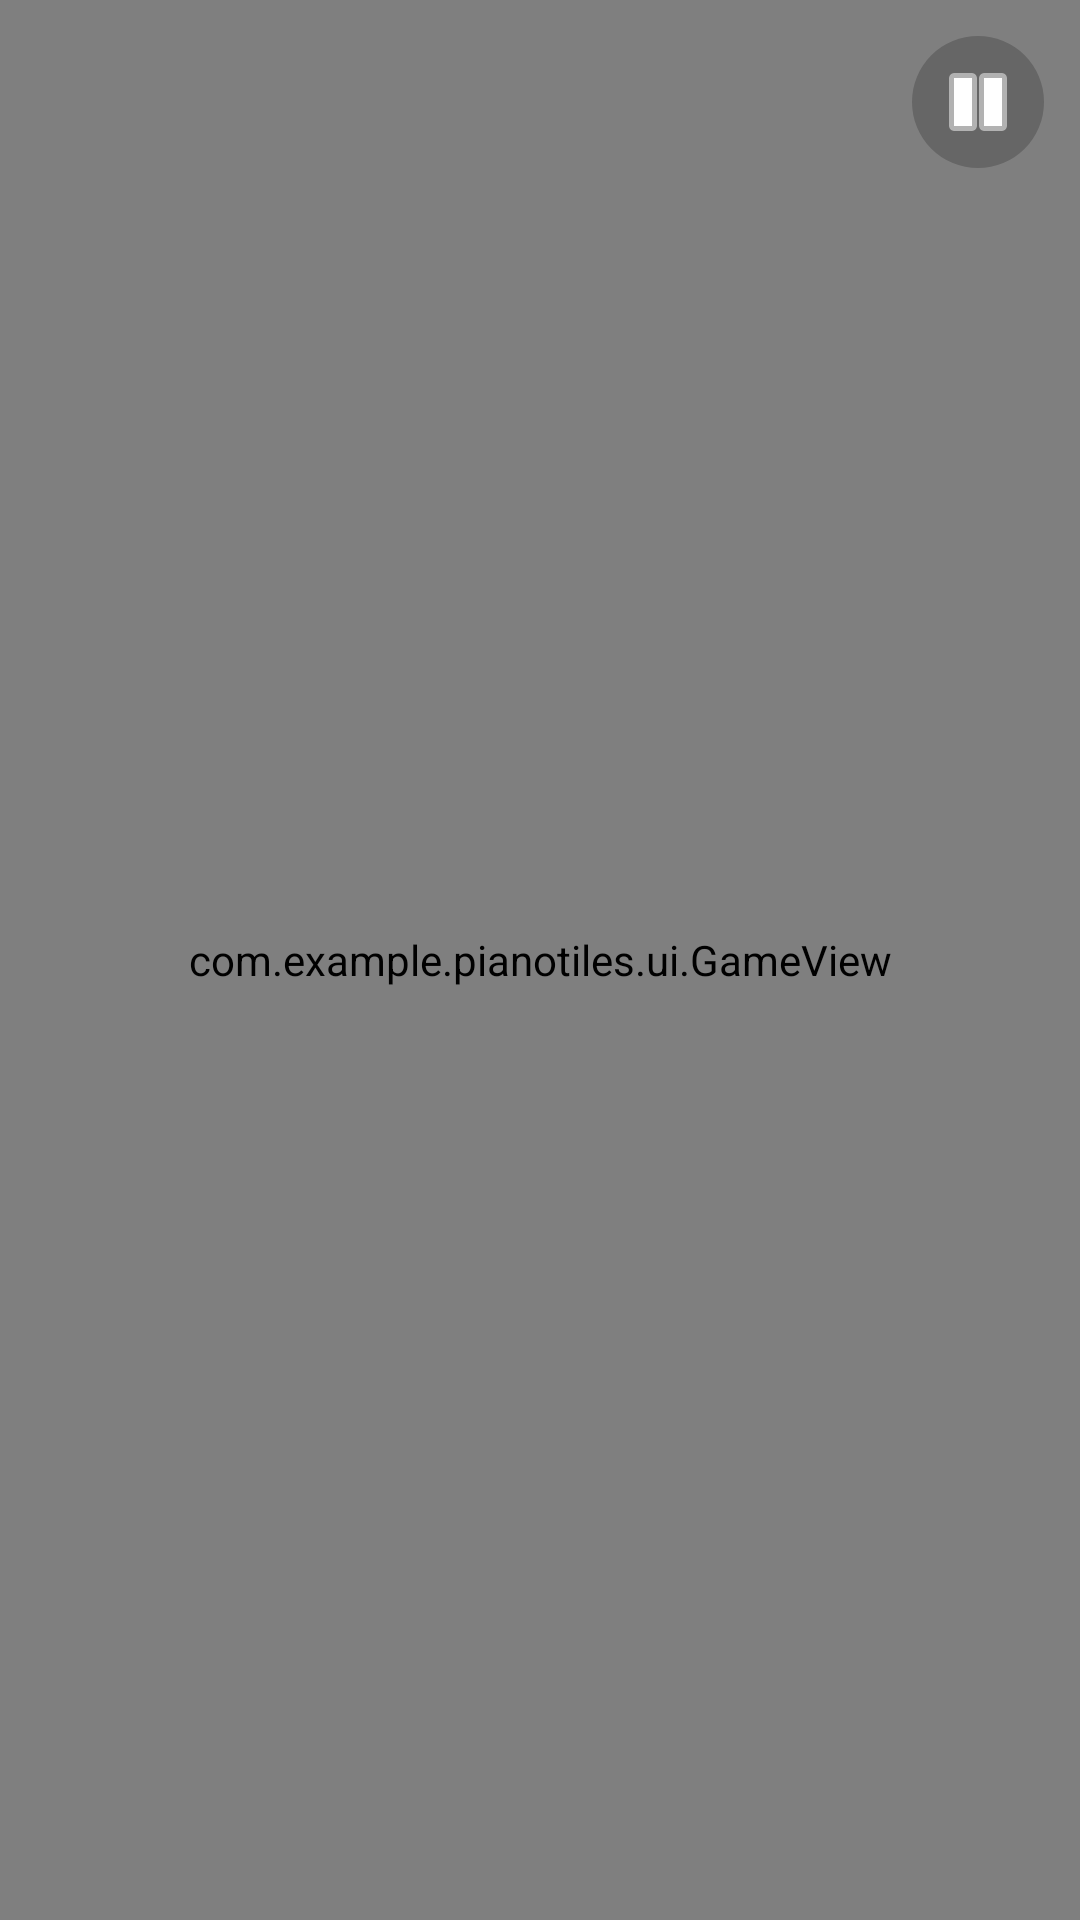

Locate icon controls on the screen. Image size 1080px×1920px, boxes as (x1, y1, x2, y2).
Paused: (912, 36, 1044, 168)
